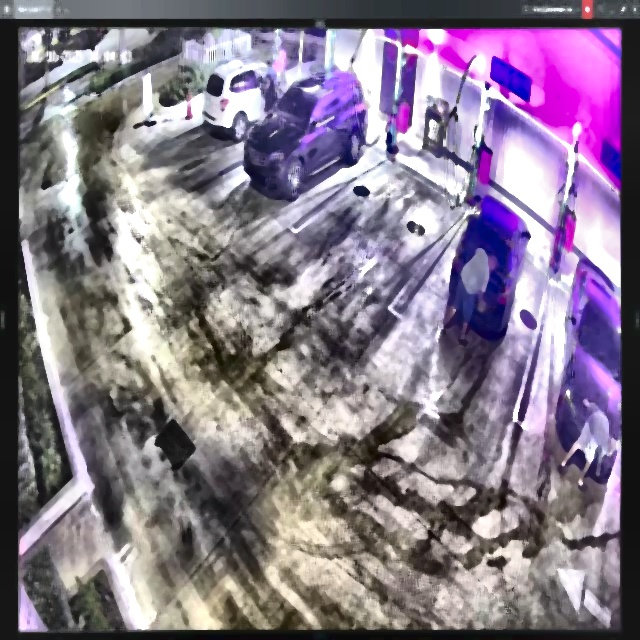Car: (244, 70, 369, 198), (449, 194, 530, 337)
